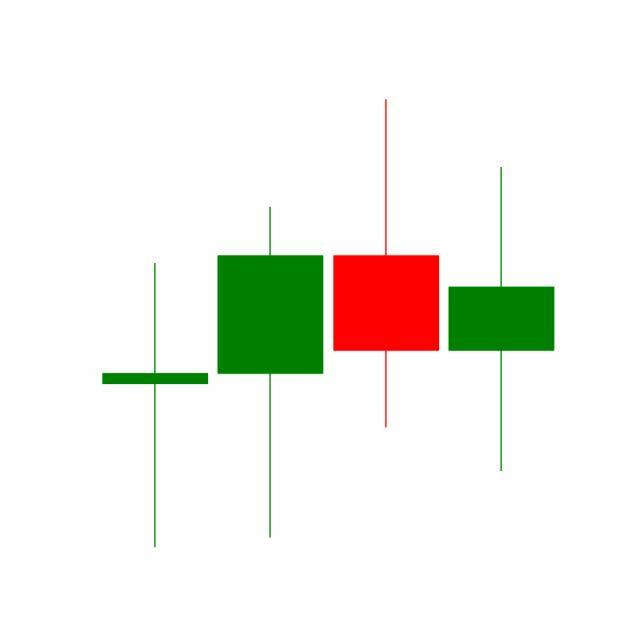Spinning Top: (444, 164, 560, 475)
